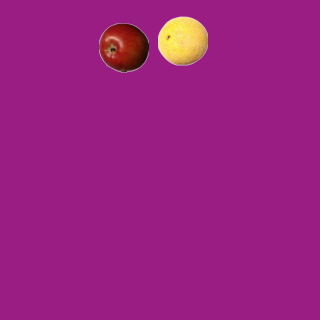Apple Braeburn: (98, 22, 148, 72)
Cantaloupe 1: (157, 15, 207, 65)
